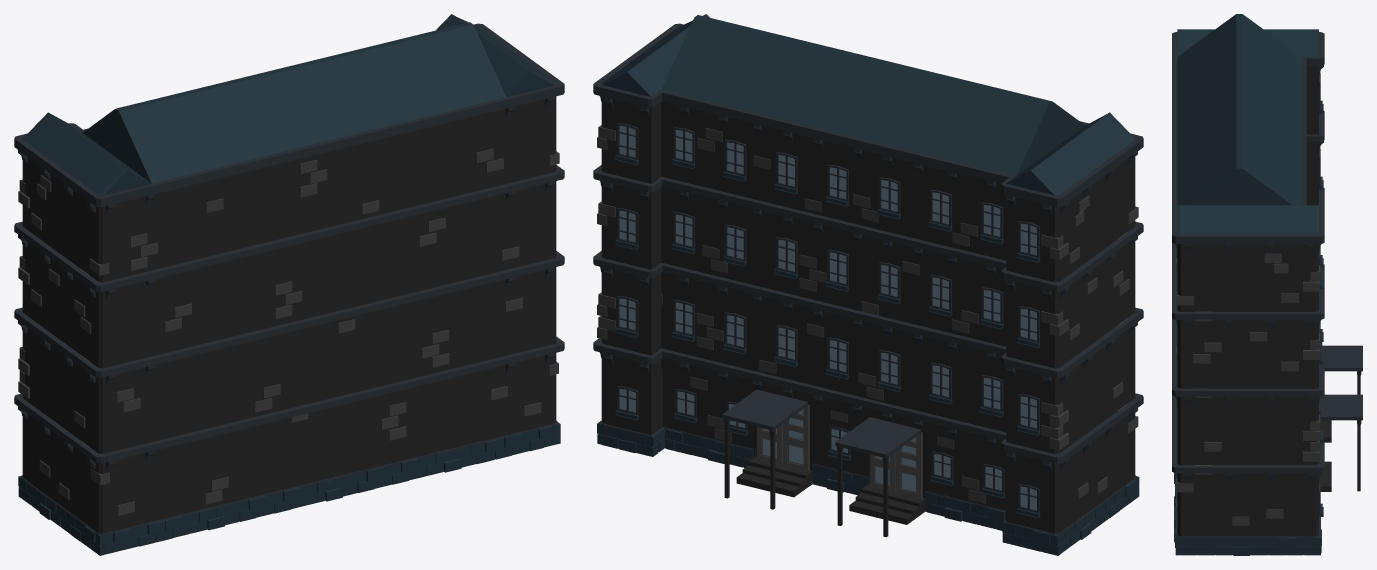
The model's file is 4Story_Wide_2Doors_Roof.glb.
The picture shows the model from 3 angles, left to right: view 1: azimuth 30°, elevation 25°; view 2: azimuth 150°, elevation 25°; view 3: azimuth 270°, elevation 25°; orthographic projection. The views are drawn at different scales.
Parts seen in each view (by area): view 1: 4Story_Wide_2Doors_Roof; view 2: 4Story_Wide_2Doors_Roof; view 3: 4Story_Wide_2Doors_Roof.
Part boxes in pixels (box(x1,y1,x2,y2)): 4Story_Wide_2Doors_Roof: box(14, 14, 564, 555); 4Story_Wide_2Doors_Roof: box(593, 14, 1143, 555); 4Story_Wide_2Doors_Roof: box(1172, 14, 1362, 555).
Size of the model in its own units: 6.83 by 5.68 by 2.7.
1 material, 1 textured.
